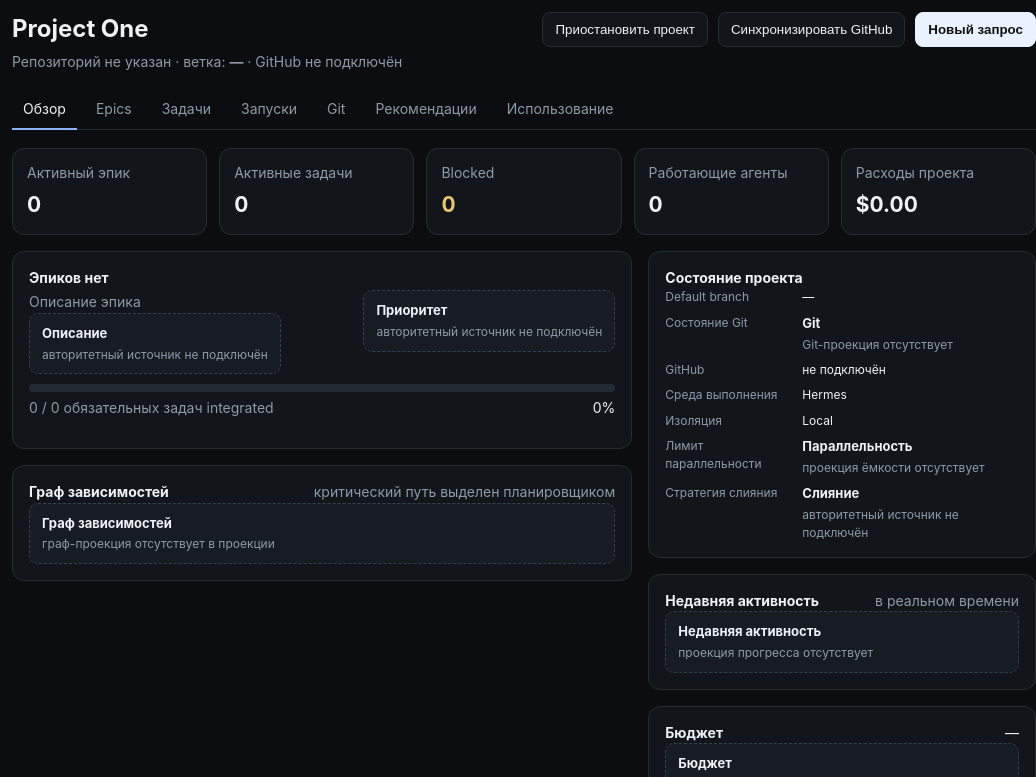
Primary workflows — реальные действия экранов через typed API › Project: scoped pause/resume вызывает typed маршруты и подтверждает состояние refetch-ом
Click the button "Приостановить проект" at x=625, y=30, box [542,12,708,47]
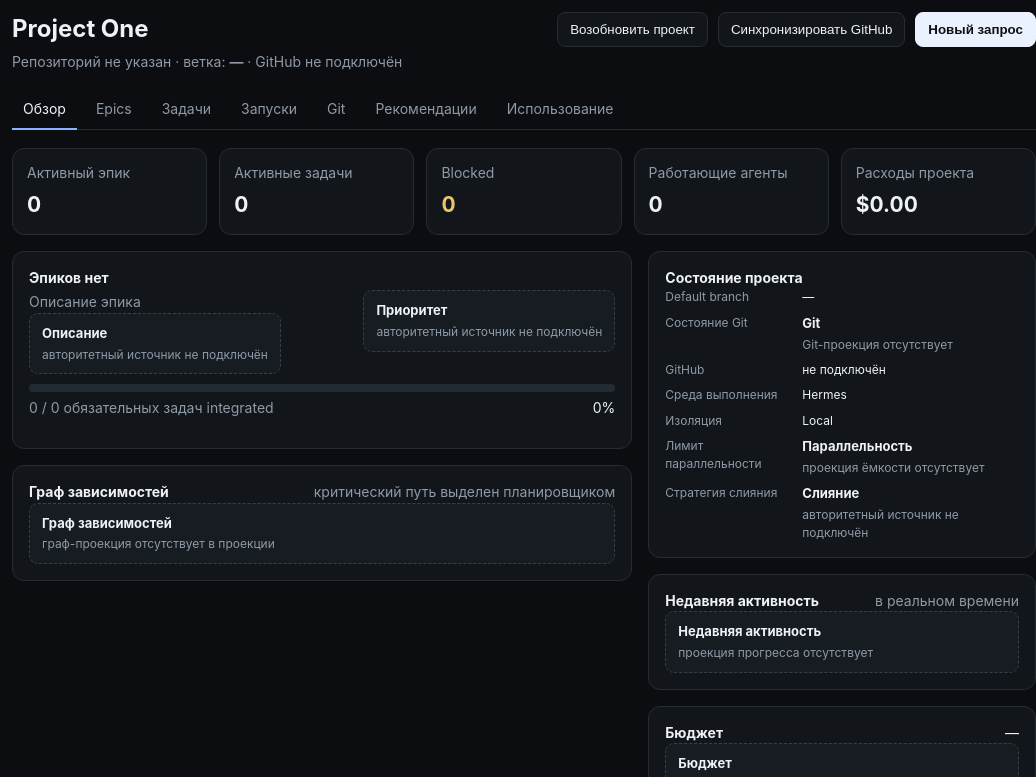
Now the button "Возобновить проект" is shown
Click the button "Возобновить проект" at x=633, y=30, box [557,12,708,47]
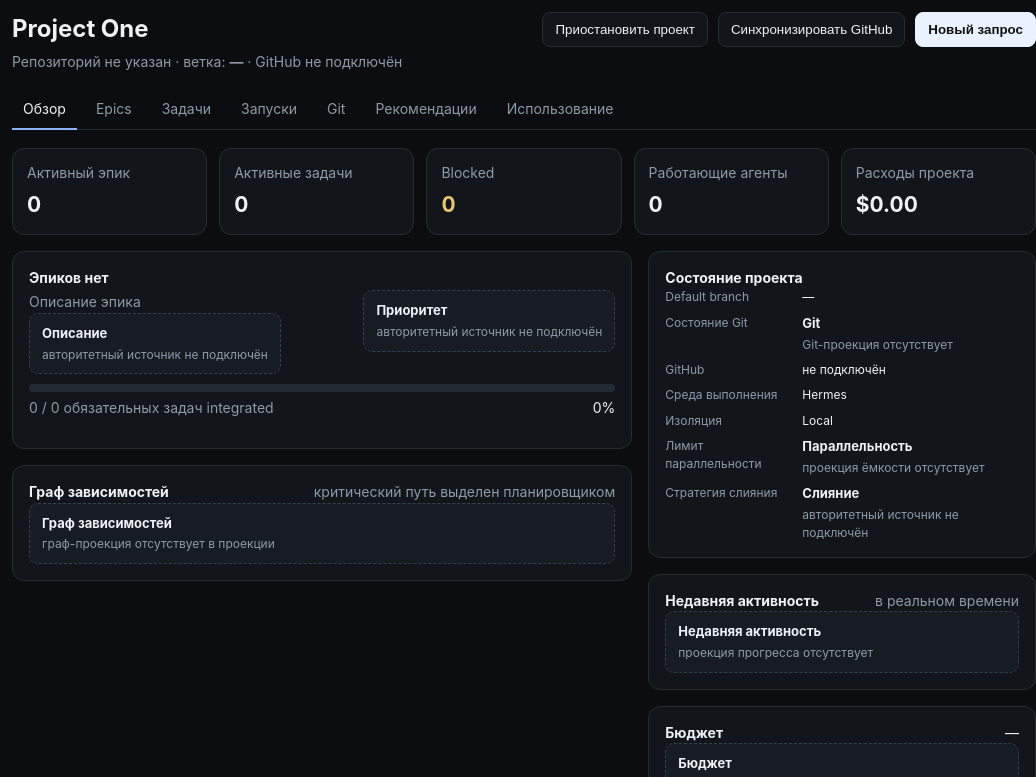
Now the button "Приостановить проект" is shown, box [542,12,708,47]
